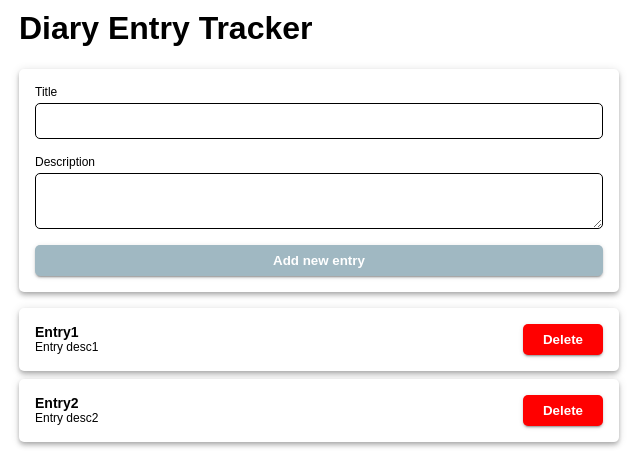
Test: shoudl be able to delete entry
The width and height of the screenshot is (639, 465).
Click the button "Delete" in the row of "Entry desc1": (563, 339) [523,324,603,355]
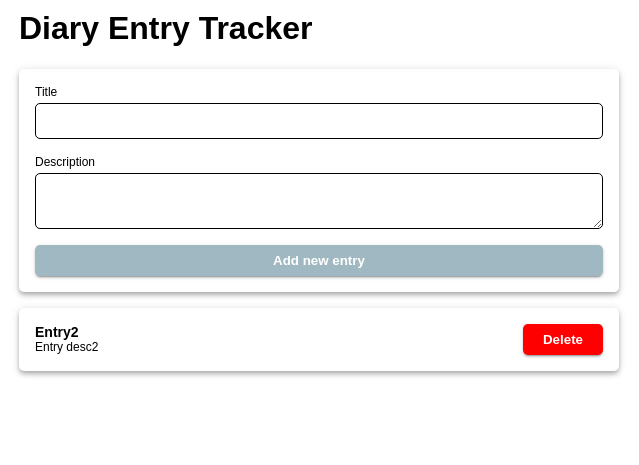
Check: the text "Entry2" is shown, box [35,324,79,340]
Check: the text "Entry1" is gone
